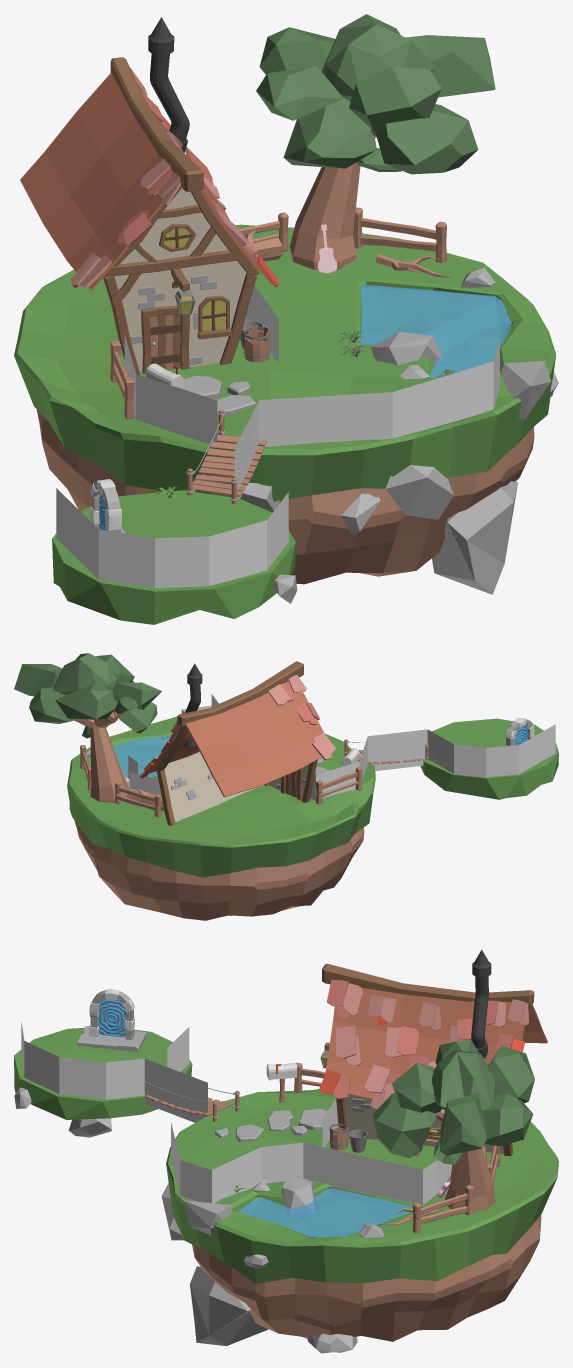
The model's file is worldThreeJSReady.glb.
3 renders of one model, top to bottom at view 1: azimuth 30°, elevation 25°; view 2: azimuth 150°, elevation 25°; view 3: azimuth 270°, elevation 25°, orthographic. The views are drawn at different scales.
Parts seen in each view (by area): view 1: islandAndHouse, tree, transparentWall, rocks, floatingPlatform, water, bridge, fence1, tiles, portal, fence2, Barrel Broken (+1 smaller); view 2: islandAndHouse, tree, transparentWall, floatingPlatform, water, fence2, fence3, portal; view 3: islandAndHouse, transparentWall, tree, rocks, floatingPlatform, water, portal, tiles, fence1, bridge, mailbox.
Part boxes in pixels (left/top/right/bottom): islandAndHouse: left=14, top=17, right=556, bottom=584; tree: left=256, top=14, right=495, bottom=269; transparentWall: left=56, top=285, right=499, bottom=587; rocks: left=229, top=267, right=558, bottom=603; floatingPlatform: left=52, top=490, right=295, bottom=624; water: left=360, top=285, right=511, bottom=377; bridge: left=186, top=409, right=266, bottom=504; fence1: left=353, top=207, right=446, bottom=263; tiles: left=183, top=376, right=255, bottom=416; portal: left=90, top=479, right=125, bottom=533; fence2: left=110, top=341, right=134, bottom=418; Barrel Broken: left=244, top=325, right=270, bottom=362; islandAndHouse: left=67, top=661, right=375, bottom=920; tree: left=14, top=653, right=161, bottom=802; transparentWall: left=128, top=694, right=555, bottom=800; floatingPlatform: left=420, top=718, right=558, bottom=799; water: left=113, top=735, right=171, bottom=777; fence2: left=315, top=766, right=362, bottom=804; fence3: left=115, top=781, right=161, bottom=817; portal: left=505, top=718, right=534, bottom=746; islandAndHouse: left=166, top=949, right=558, bottom=1341; transparentWall: left=21, top=1021, right=452, bottom=1204; tree: left=372, top=1040, right=534, bottom=1211; rocks: left=14, top=1087, right=384, bottom=1353; floatingPlatform: left=14, top=1027, right=192, bottom=1119; water: left=237, top=1188, right=412, bottom=1237; portal: left=77, top=989, right=146, bottom=1052; tiles: left=215, top=1108, right=327, bottom=1142; fence1: left=412, top=1184, right=473, bottom=1233; bridge: left=144, top=1066, right=239, bottom=1121; mailbox: left=266, top=1063, right=297, bottom=1102.
Bounding box in the file's own units: 10.81 × 7.24 × 10.39.
